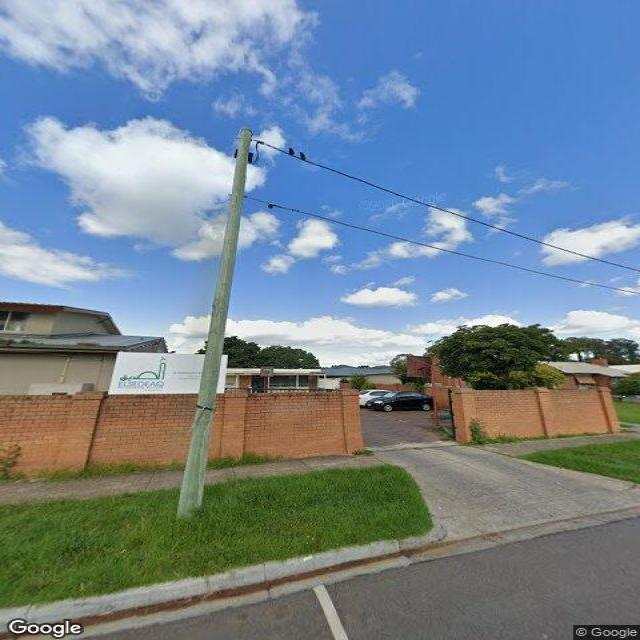timber-pole: (174, 128, 253, 517)
